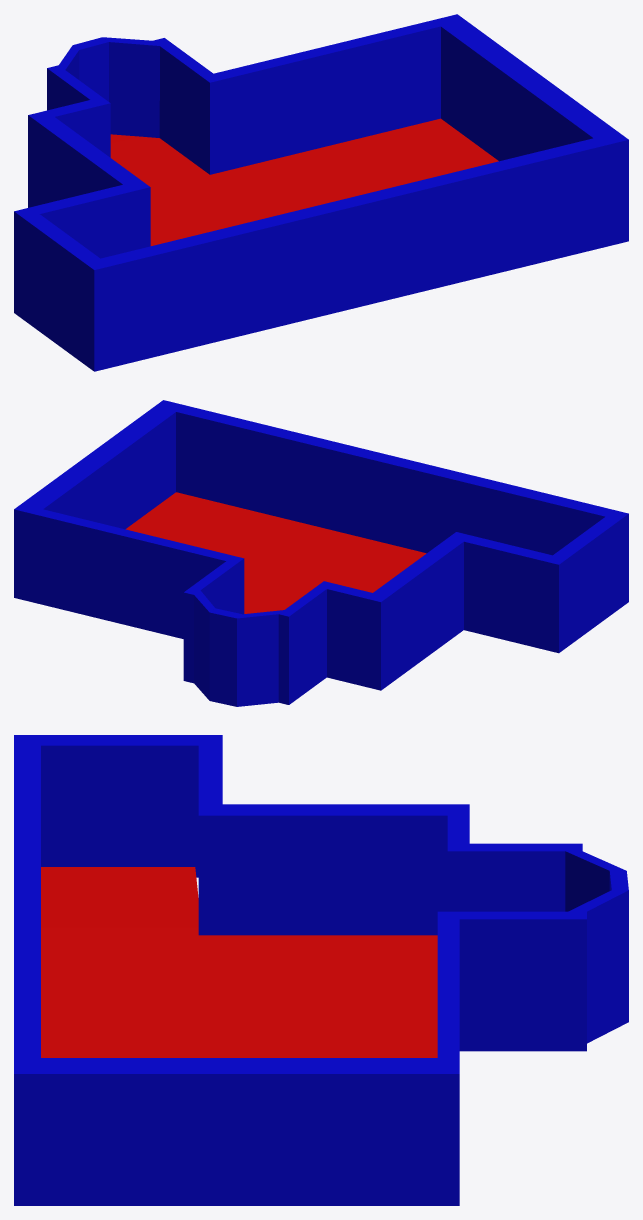
Rendered from Basement room.fbx.
The picture shows the model from 3 angles, top to bottom: view 1: azimuth 30°, elevation 25°; view 2: azimuth 150°, elevation 25°; view 3: azimuth 270°, elevation 25°; orthographic projection. The views are drawn at different scales.
Visible parts, largest first — view 1: Cube.004; view 2: Cube.004; view 3: Cube.004.
Part boxes in pixels (x1,y1,x2,y2): Cube.004: (14, 14, 628, 371); Cube.004: (14, 400, 628, 706); Cube.004: (14, 735, 628, 1205).
Bounding box in the file's own units: 2206 × 408 × 1692.
